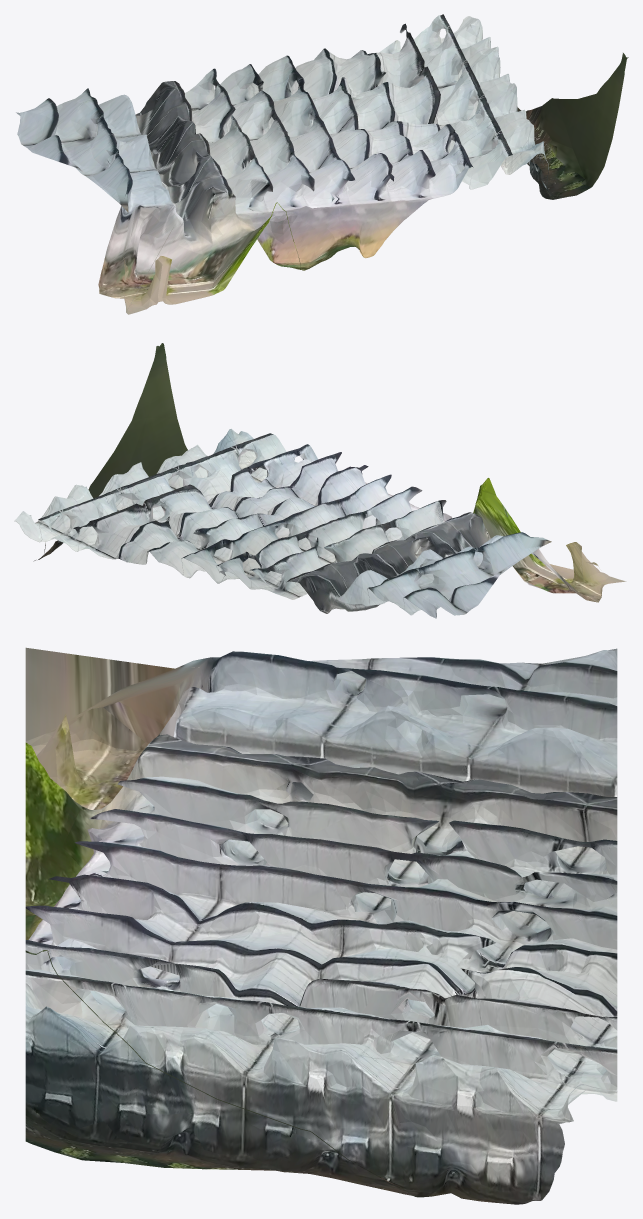
The model's file is BlockYY_L20_127.glb.
3 views of the same model, one above another, from view 1: azimuth 30°, elevation 25°; view 2: azimuth 150°, elevation 25°; view 3: azimuth 270°, elevation 25° (orthographic). The views are drawn at different scales.
Visible parts, largest first — view 1: rtc; view 2: rtc; view 3: rtc.
Boxes of the visible parts, x1=… form: rtc: x1=16, y1=14, x2=628, y2=314; rtc: x1=14, y1=343, x2=626, y2=618; rtc: x1=25, y1=647, x2=617, y2=1204.
Size of the model in its own units: 55.65 by 14.66 by 30.54.
6 materials, 6 textured.
